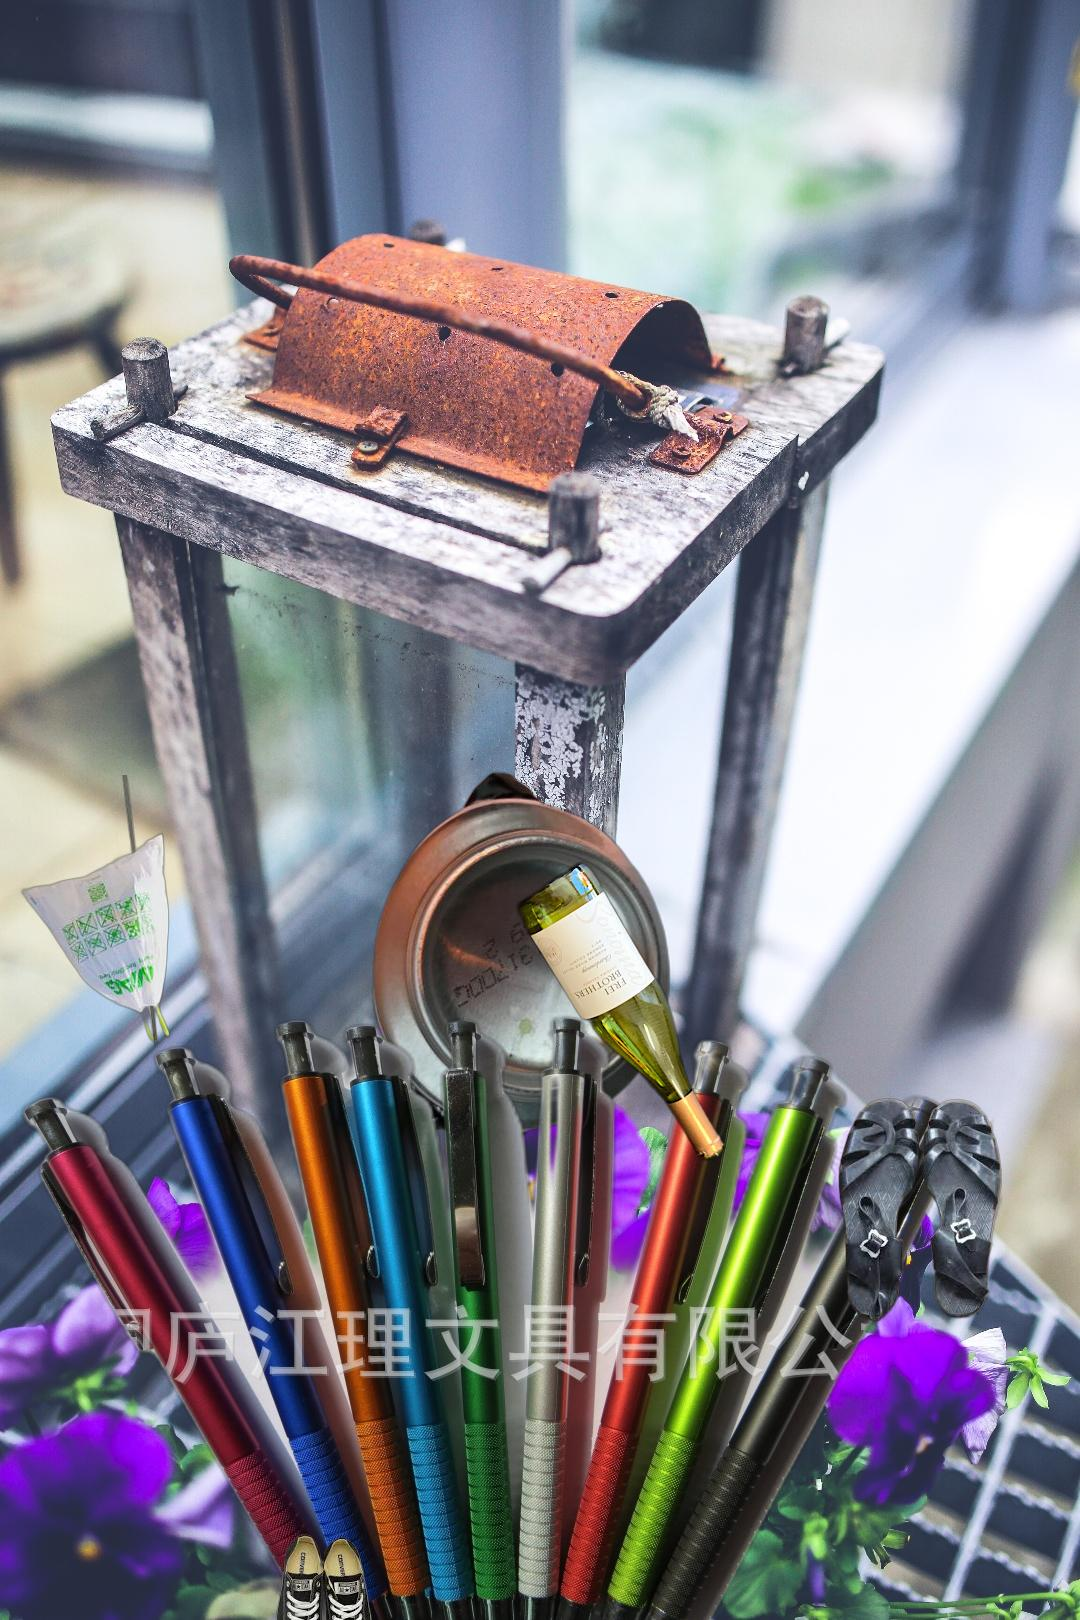glass: (513, 856, 730, 1166)
metal-cans: (369, 769, 675, 1152)
penholder: (13, 1010, 961, 1620)
plastic-bag: (18, 775, 175, 1061)
shoes: (837, 1096, 1004, 1323), (272, 1531, 375, 1620)
